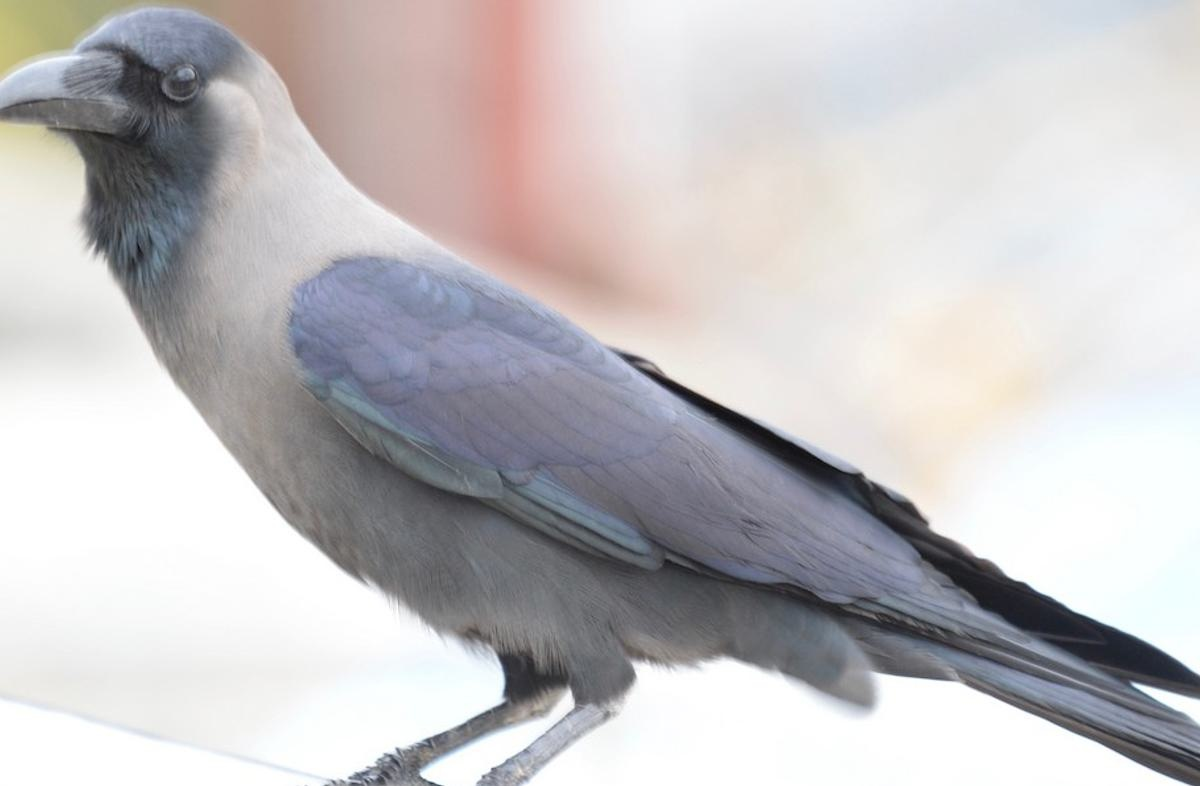crow: (7, 4, 1200, 786)
